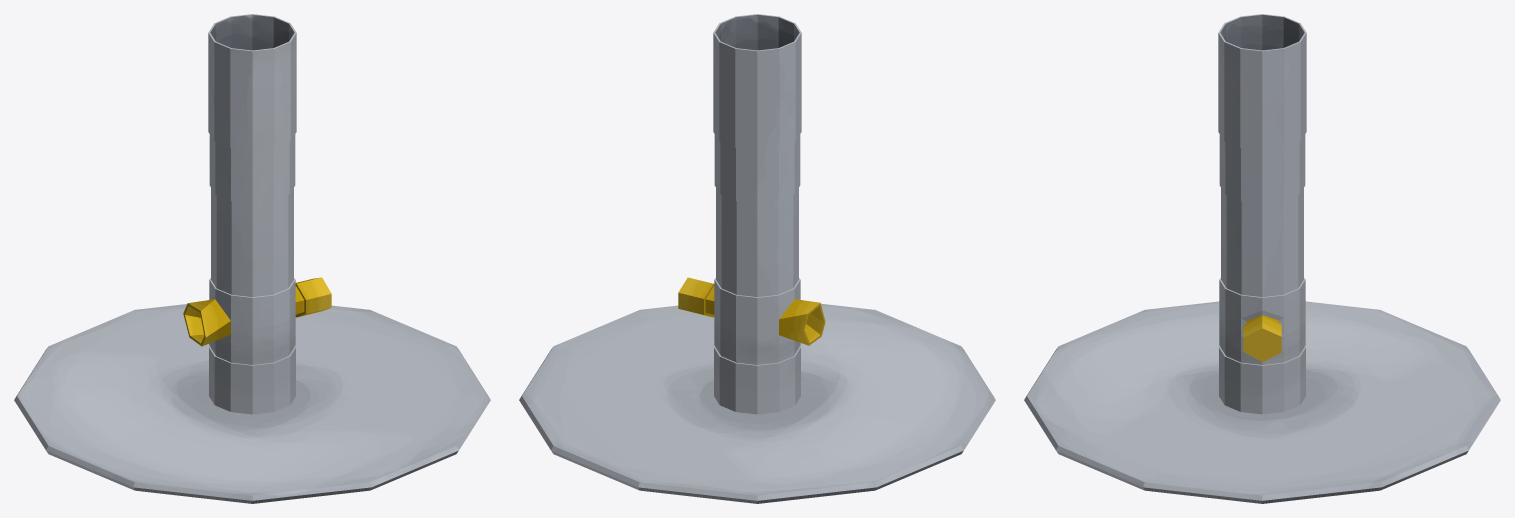
File: BunsenBurner.fbx
3 renders of one model, left to right at view 1: azimuth 30°, elevation 25°; view 2: azimuth 150°, elevation 25°; view 3: azimuth 270°, elevation 25°, orthographic.
Parts seen in each view (by area): view 1: pCylinder3; view 2: pCylinder3; view 3: pCylinder3.
Boxes of the visible parts, x1=… form: pCylinder3: x1=14, y1=14, x2=490, y2=503; pCylinder3: x1=519, y1=14, x2=995, y2=503; pCylinder3: x1=1024, y1=14, x2=1500, y2=503.
Size of the model in its own units: 20.25 by 17.42 by 20.25.
Materials: 1 (1 with a texture image).
